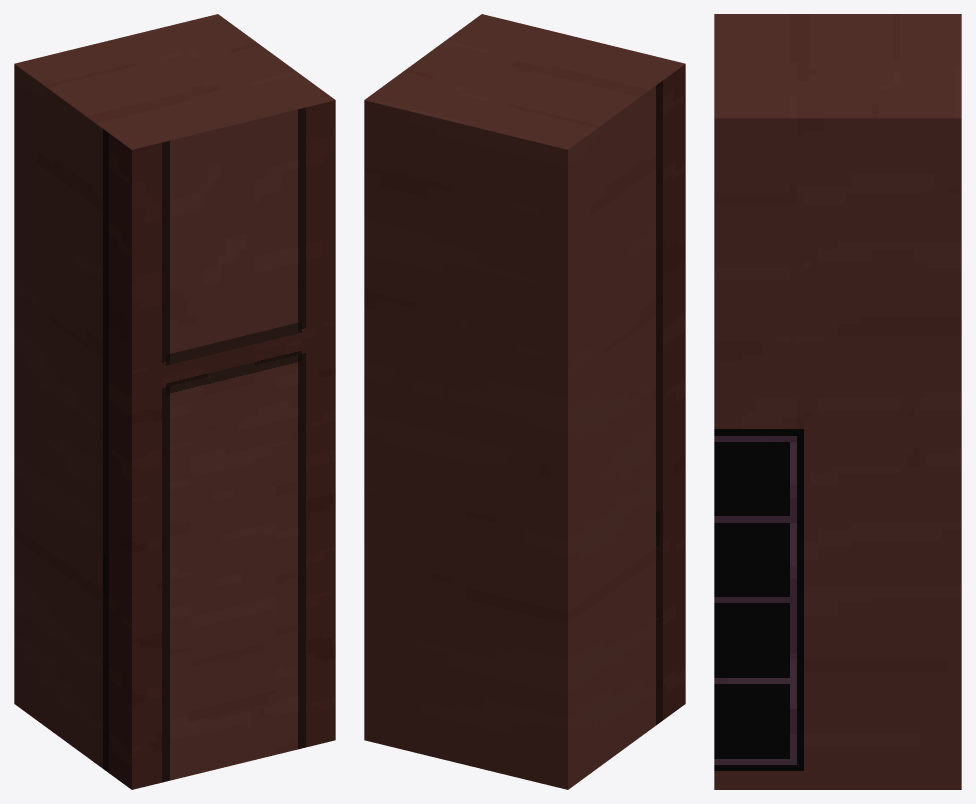
Rendered from library_wall2.glb.
3 renders of one model, left to right at view 1: azimuth 30°, elevation 25°; view 2: azimuth 150°, elevation 25°; view 3: azimuth 270°, elevation 25°, orthographic. The views are drawn at different scales.
Visible parts, largest first — view 1: WallSide; view 2: WallSide; view 3: WallSide.
Part boxes in pixels (bbox=[...]): WallSide: bbox=[14, 14, 335, 789]; WallSide: bbox=[364, 14, 685, 789]; WallSide: bbox=[714, 14, 961, 789].
Size of the model in its own units: 2 by 6 by 2.
Materials: 1 (1 with a texture image).
